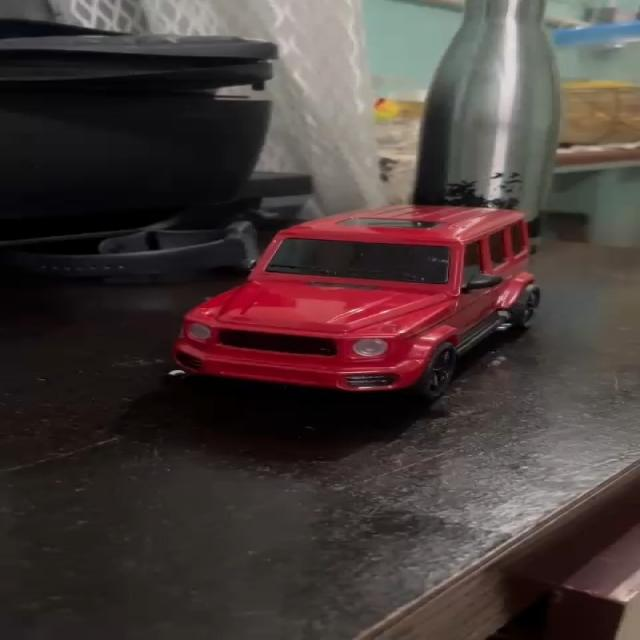light_vehicle: (174, 203, 542, 409)
